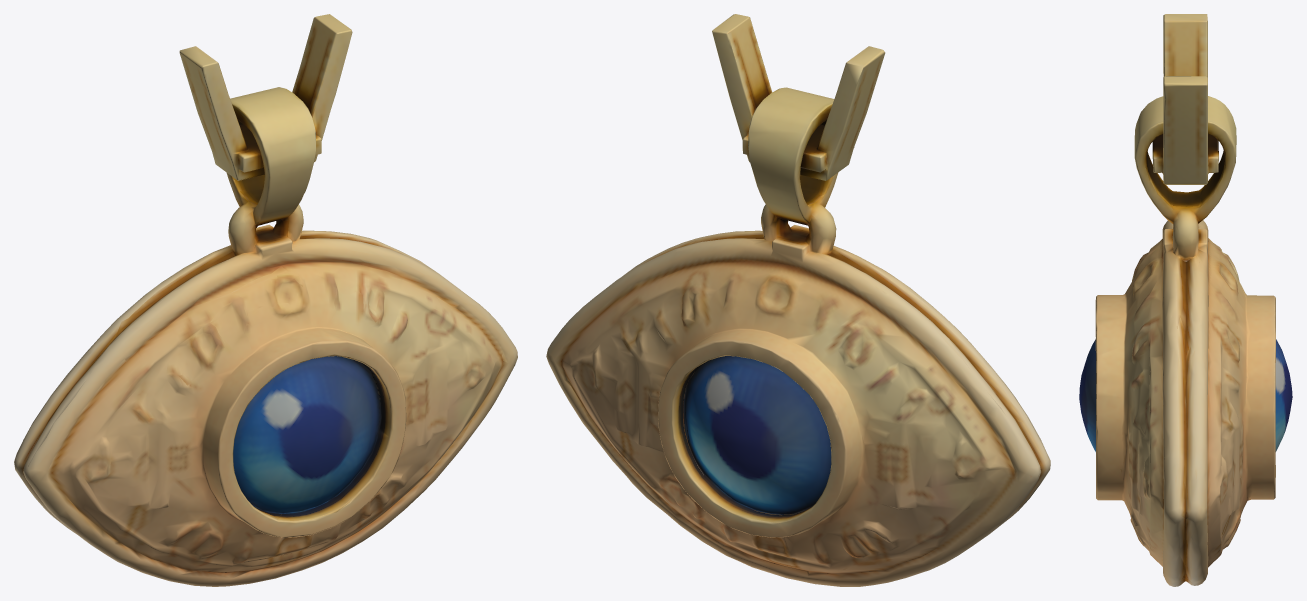
The picture shows the model from 3 angles, left to right: view 1: azimuth 30°, elevation 25°; view 2: azimuth 150°, elevation 25°; view 3: azimuth 270°, elevation 25°; orthographic projection. The views are drawn at different scales.
Parts seen in each view (by area): view 1: oracle-pendant; view 2: oracle-pendant; view 3: oracle-pendant.
Boxes of the visible parts, left/top/right/bottom form: oracle-pendant: left=14, top=14, right=517, bottom=586; oracle-pendant: left=546, top=14, right=1050, bottom=586; oracle-pendant: left=1079, top=14, right=1292, bottom=586.
Size of the model in its own units: 0.1669 by 0.1736 by 0.0655.
Materials: 1 (1 with a texture image).
